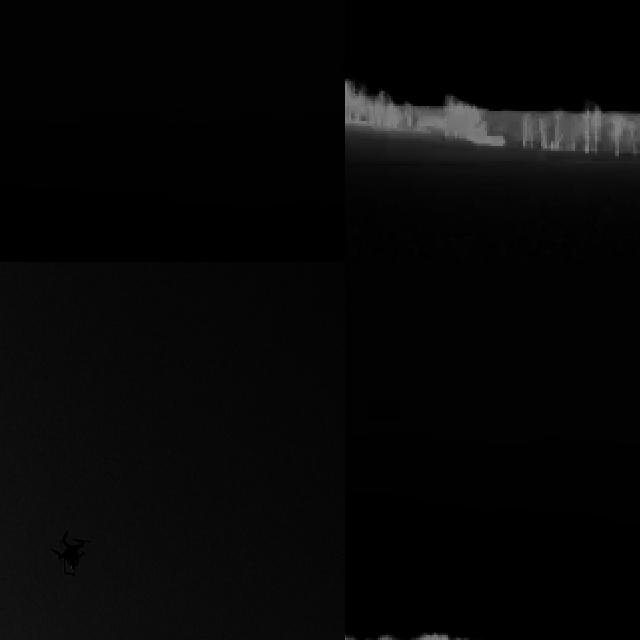0: (345, 542, 375, 577)
drone: (51, 525, 90, 576)
